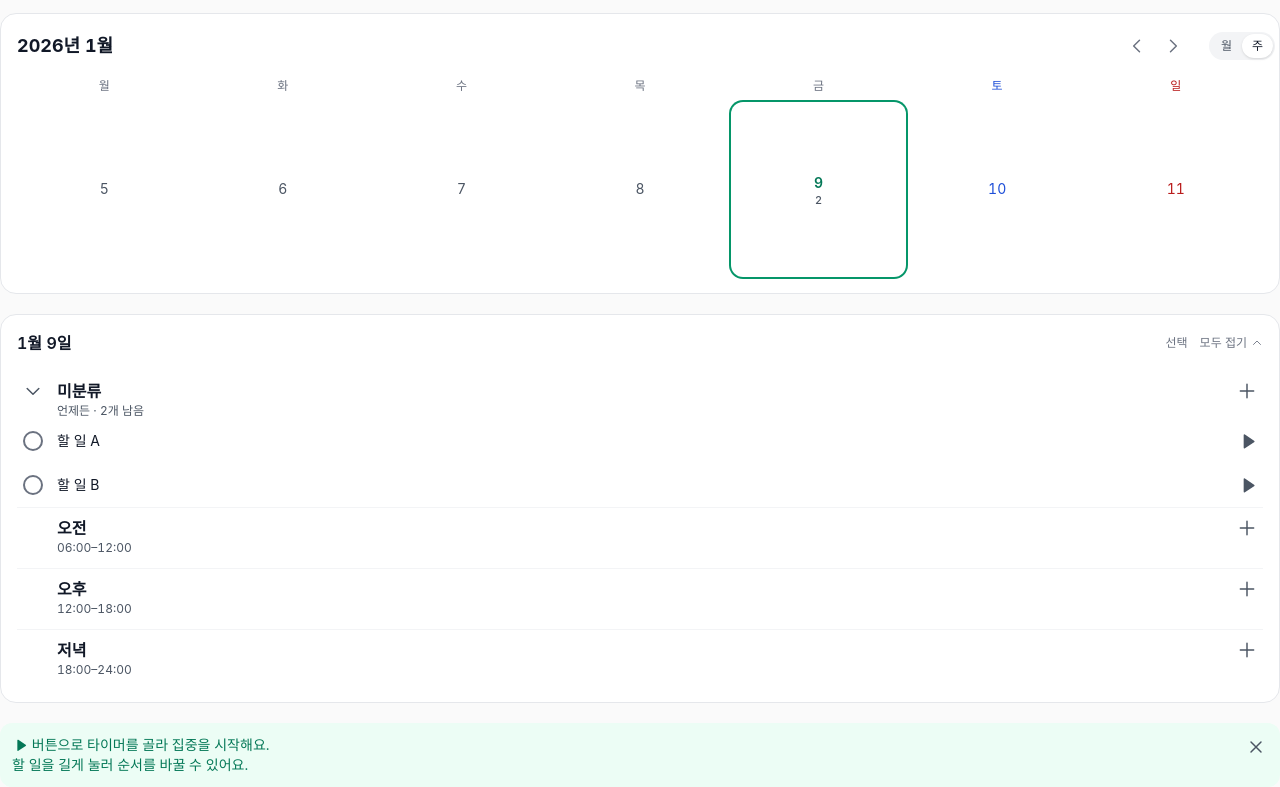
TodosPage delete undo › commits pending deletes and closes the undo toast when leaving the page
(page scrolled)
Click the button "할 일 A". click: (78, 440)
box: [57, 431, 1223, 451]
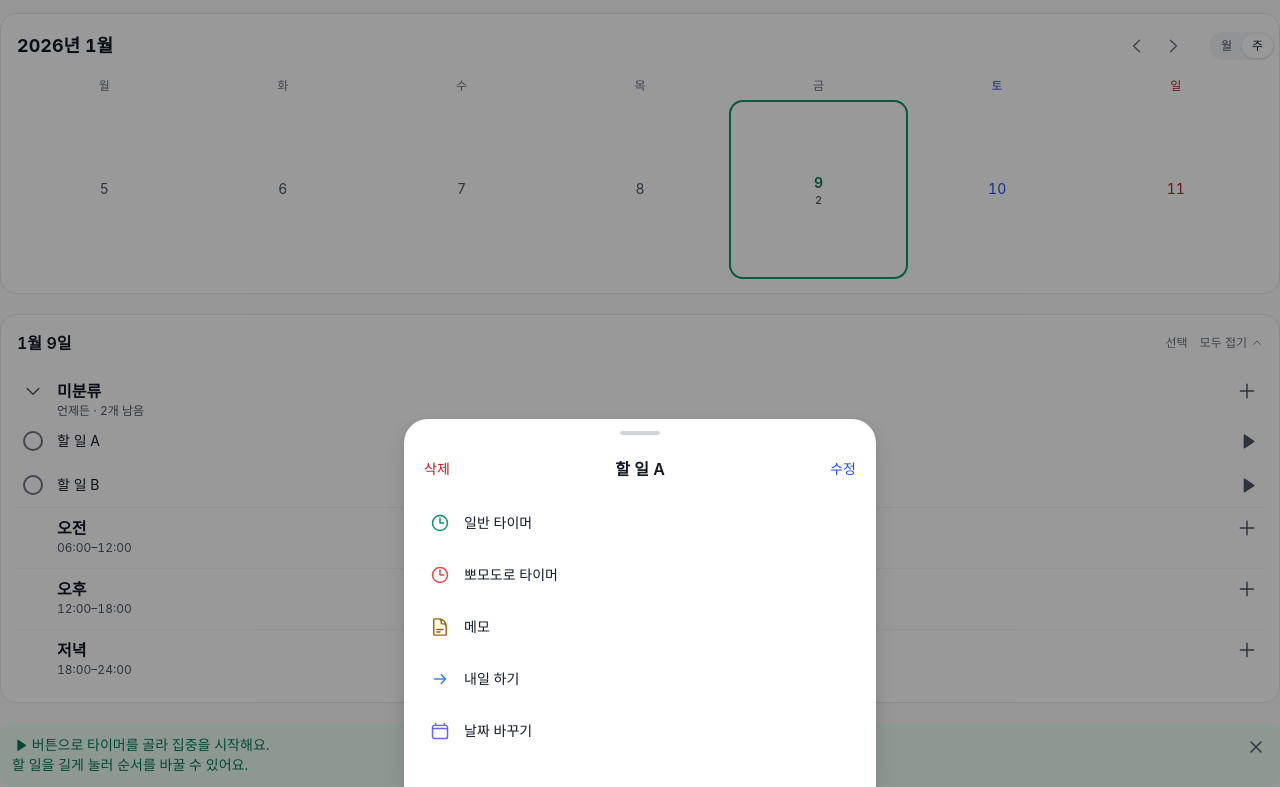
Click the button with aria-label "할 일 A 삭제". click: (437, 469)
box: [412, 451, 462, 487]
Wait 100 ms
(page scrolled)
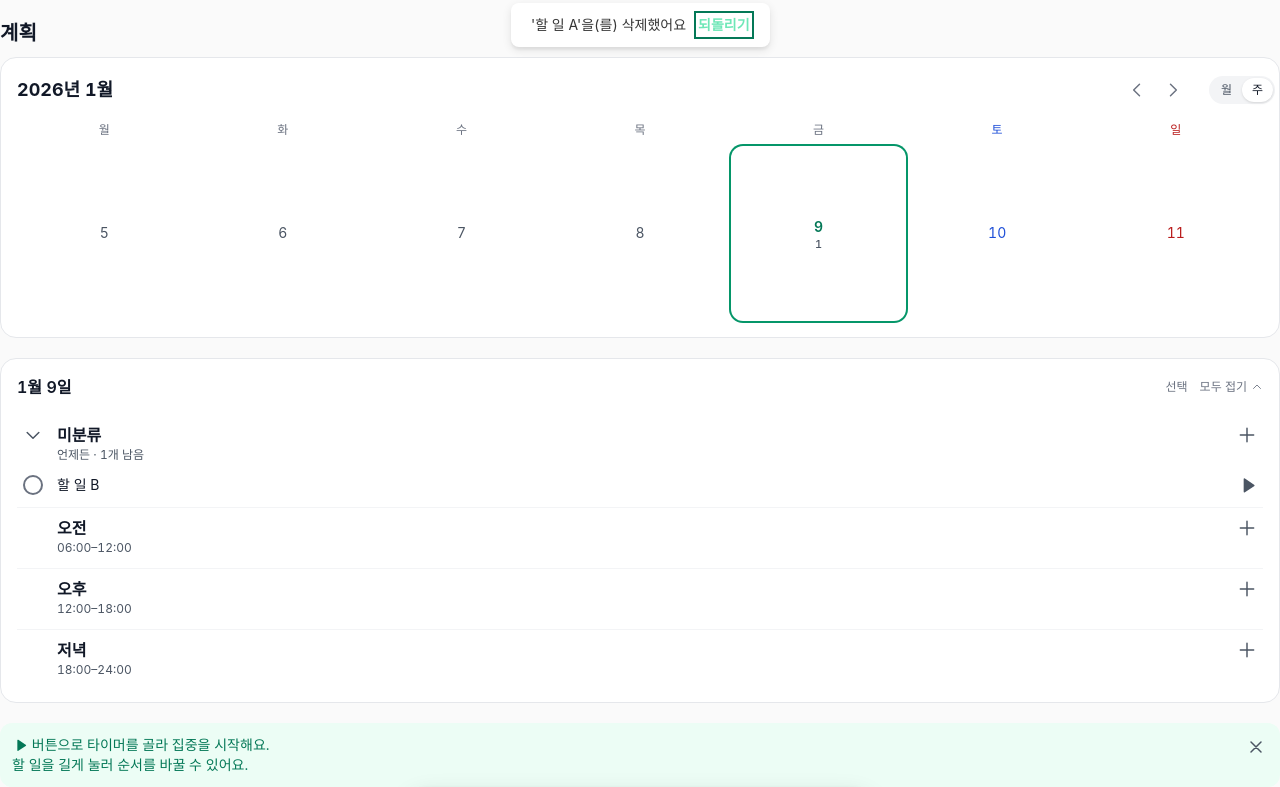
Check: the button "되돌리기" is shown, box [698, 15, 749, 35]
